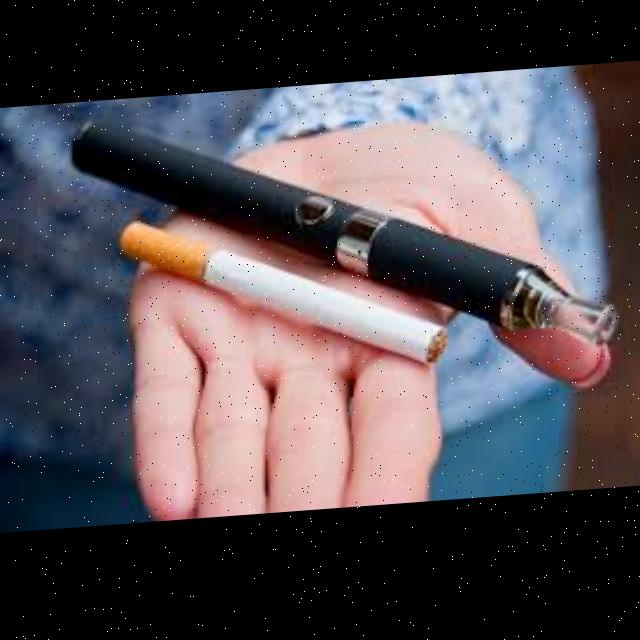cigarette: (113, 218, 455, 375)
vape: (57, 114, 629, 373)
